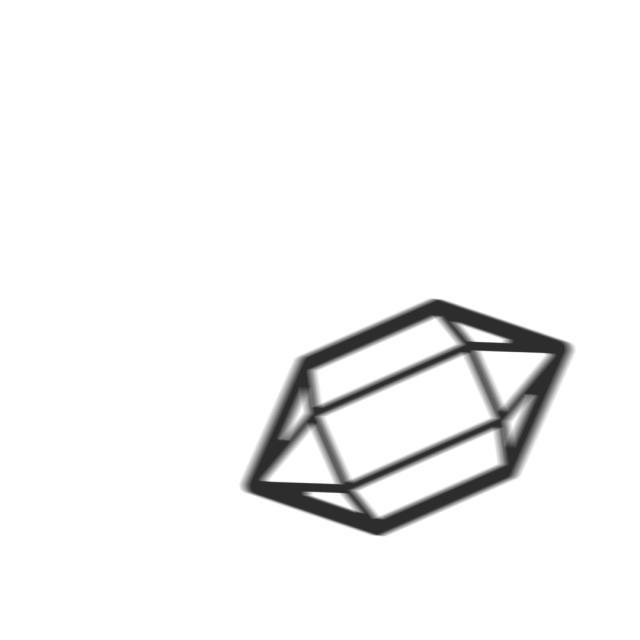crystal: (231, 293, 580, 544)
